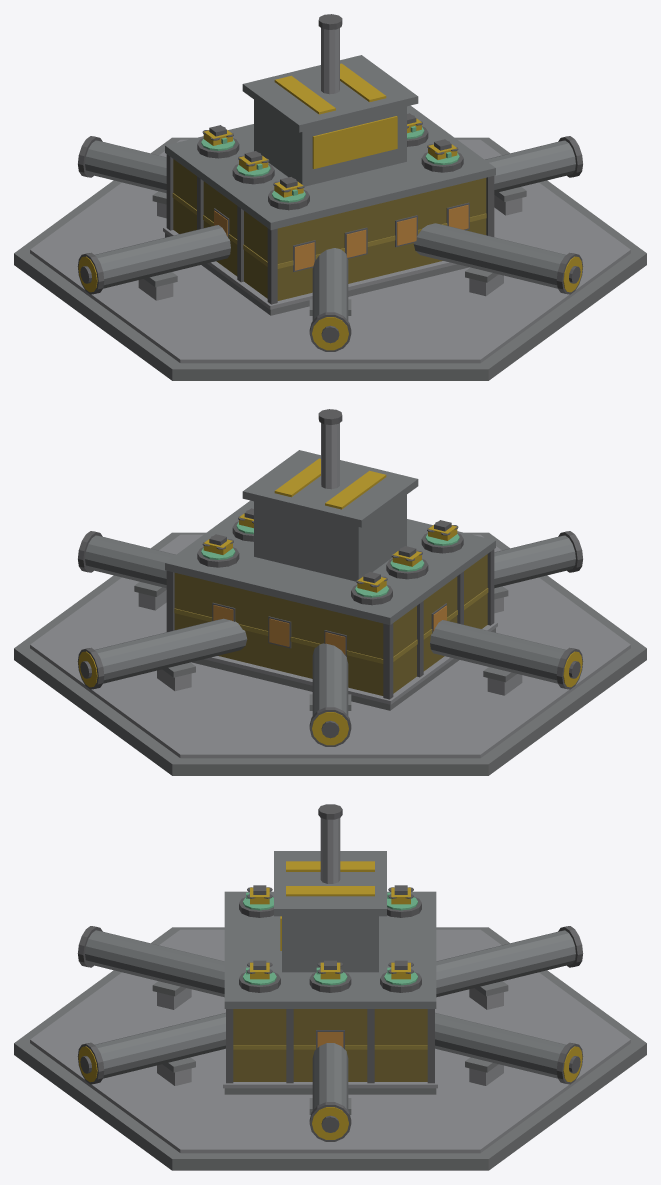
Rendered from maintenance_building_s2_ruin.glb.
The picture shows the model from 3 angles, top to bottom: view 1: azimuth 30°, elevation 25°; view 2: azimuth 150°, elevation 25°; view 3: azimuth 270°, elevation 25°; orthographic projection.
Parts seen in each view (by area): view 1: M_FoundRim, M_Foundation, M_Wall_S, M_RoofS, M_HangarRoof, M_Hangar, M_PipeStubSE, M_PipeStubW, M_PipeStubE, M_PipeStubNW, M_HangarOpening, M_PipeStubSW (+15 smaller); view 2: M_FoundRim, M_Foundation, M_Wall_N, M_Hangar, M_RoofN, M_HangarRoof, M_PipeStubNE, M_PipeStubW, M_PipeStubE, M_PipeStubSW, M_PipeStubNW, M_RoofS (+14 smaller); view 3: M_FoundRim, M_Foundation, M_RoofN, M_RoofS, M_Hangar, M_HangarRoof, M_PipeStubNW, M_PipeStubSW, M_PipeStubNE, M_PipeStubSE, M_Wall_S, M_Wall_N (+13 smaller).
Part boxes in pixels (x1,y1,x2,y2): M_FoundRim: (30, 139, 630, 363); M_Foundation: (14, 137, 646, 380); M_Wall_S: (244, 178, 486, 300); M_RoofS: (235, 146, 495, 229); M_HangarRoof: (242, 55, 418, 132); M_Hangar: (254, 100, 406, 186); M_PipeStubSE: (413, 223, 565, 288); M_PipeStubW: (95, 225, 230, 288); M_PipeStubE: (485, 140, 575, 193); M_PipeStubNW: (85, 140, 166, 193); M_HangarOpening: (312, 116, 397, 168); M_PipeStubSW: (312, 248, 348, 320); M_FoundRim: (30, 534, 630, 758); M_Foundation: (14, 532, 646, 775); M_Wall_N: (174, 573, 416, 695); M_Hangar: (254, 495, 406, 581); M_RoofN: (165, 541, 425, 624); M_HangarRoof: (242, 450, 418, 527); M_PipeStubNE: (95, 618, 247, 683); M_PipeStubW: (430, 620, 565, 683); M_PipeStubE: (85, 535, 175, 588); M_PipeStubSW: (494, 535, 575, 588); M_PipeStubNW: (312, 643, 348, 715); M_RoofS: (236, 500, 495, 572); M_FoundRim: (30, 929, 630, 1153); M_Foundation: (14, 927, 646, 1170); M_RoofN: (366, 891, 436, 1008); M_RoofS: (224, 891, 294, 1008); M_Hangar: (282, 916, 378, 972); M_HangarRoof: (274, 851, 386, 916); M_PipeStubNW: (436, 930, 575, 997); M_PipeStubSW: (85, 930, 224, 997); M_PipeStubNE: (435, 1012, 565, 1078); M_PipeStubSE: (95, 1012, 225, 1078); M_Wall_S: (233, 1009, 286, 1081); M_Wall_N: (374, 1009, 427, 1081).
Bounding box in the file's own units: 3.51 × 1.68 × 3.92.
